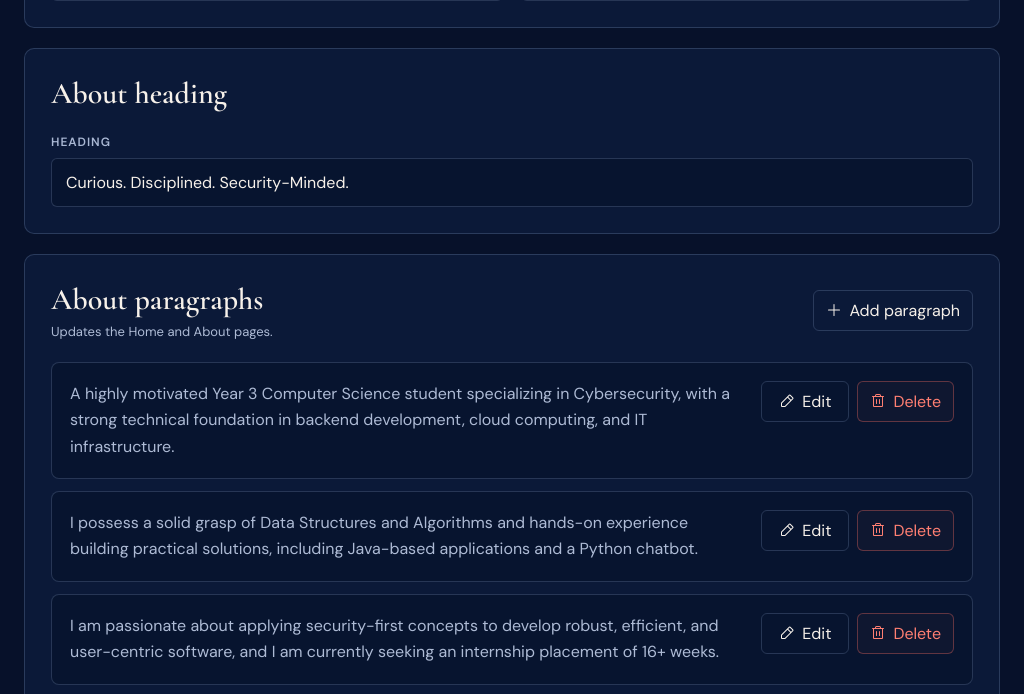
it: Admin authentication and editing › traps modal focus, closes with Escape, and restores focus to Add
The width and height of the screenshot is (1024, 694).
(page scrolled)
Click the button "Add paragraph" at {"x": 893, "y": 310}, box 813,290 -> 973,331
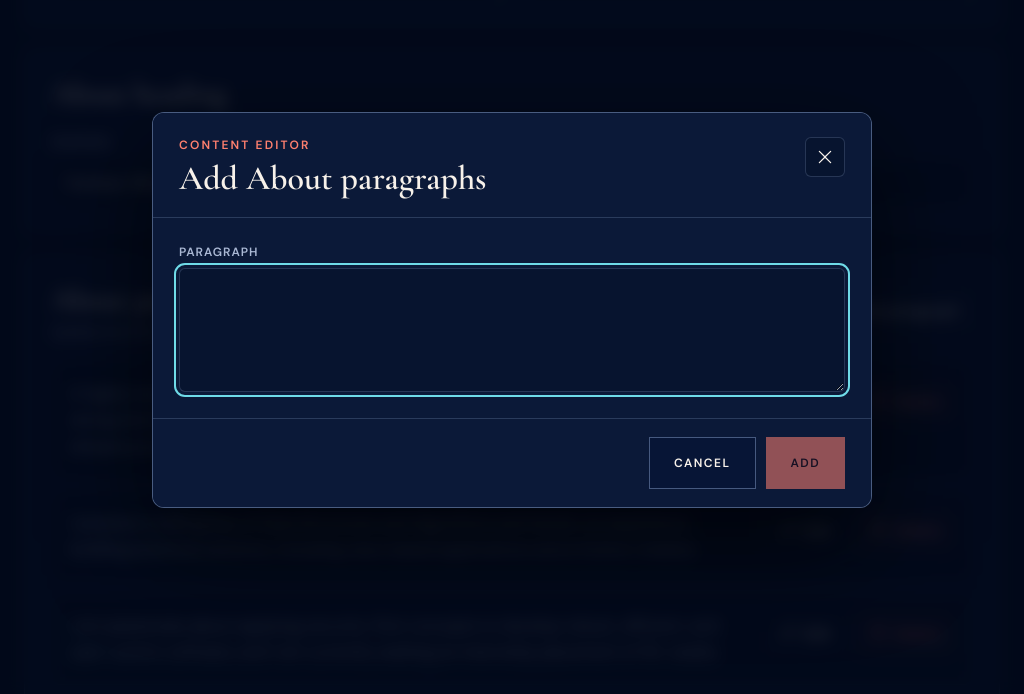
Press Escape in the text box labelled "Paragraph", box 179,268 -> 845,392
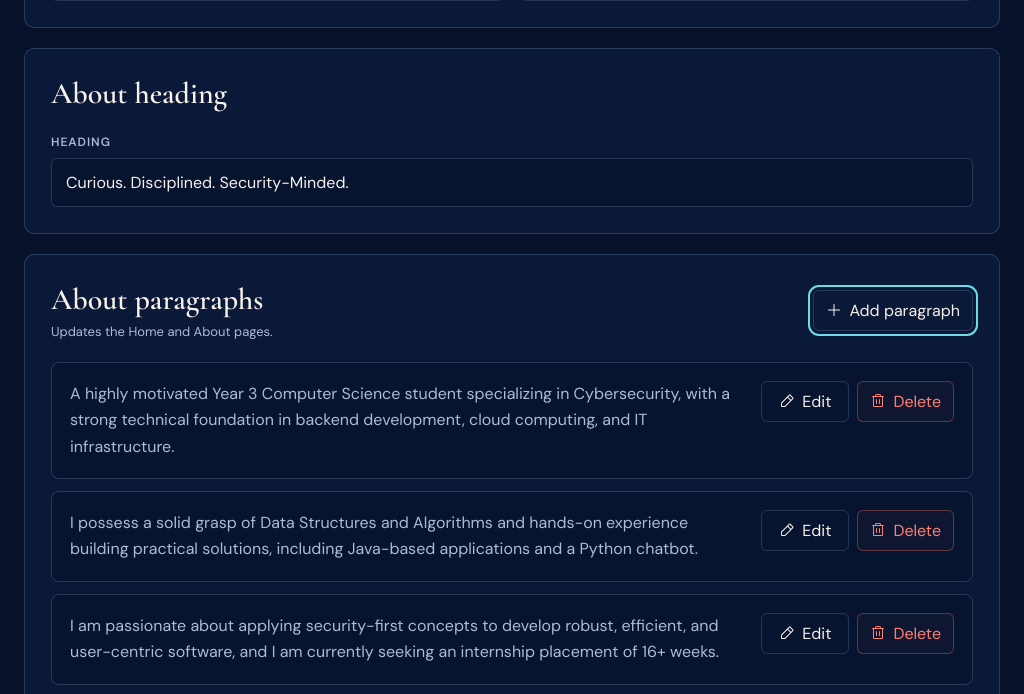
Check: the heading "Add About paragraphs" is gone
